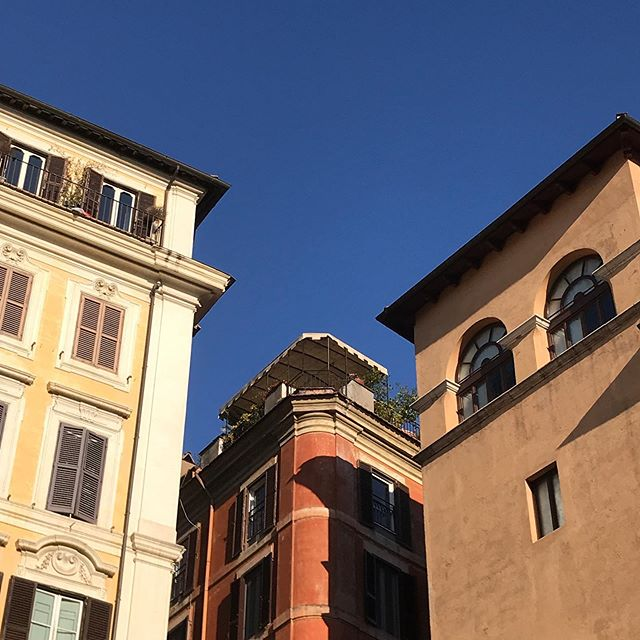building: (1, 1, 640, 222), (416, 140, 640, 640), (1, 89, 202, 640), (179, 363, 421, 640), (198, 204, 421, 374)
